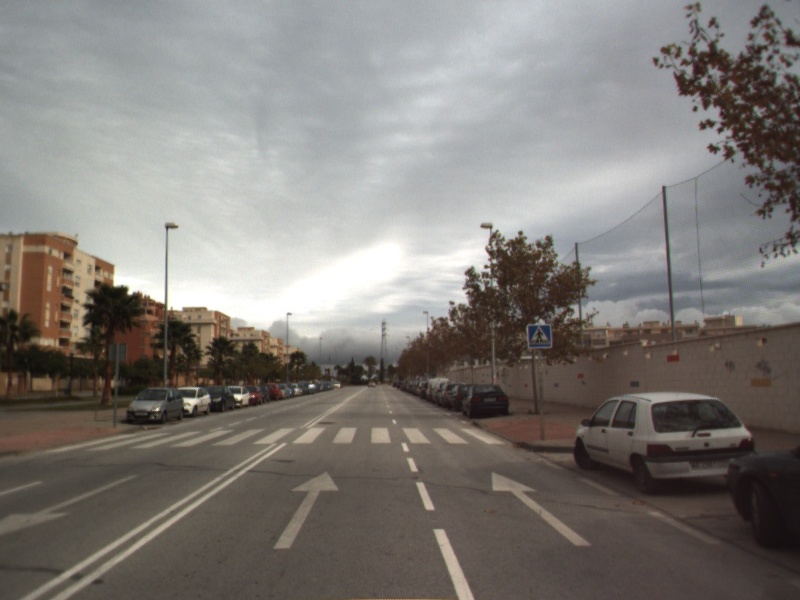STRAIGHT: (489, 469, 594, 548), (271, 469, 341, 551)
